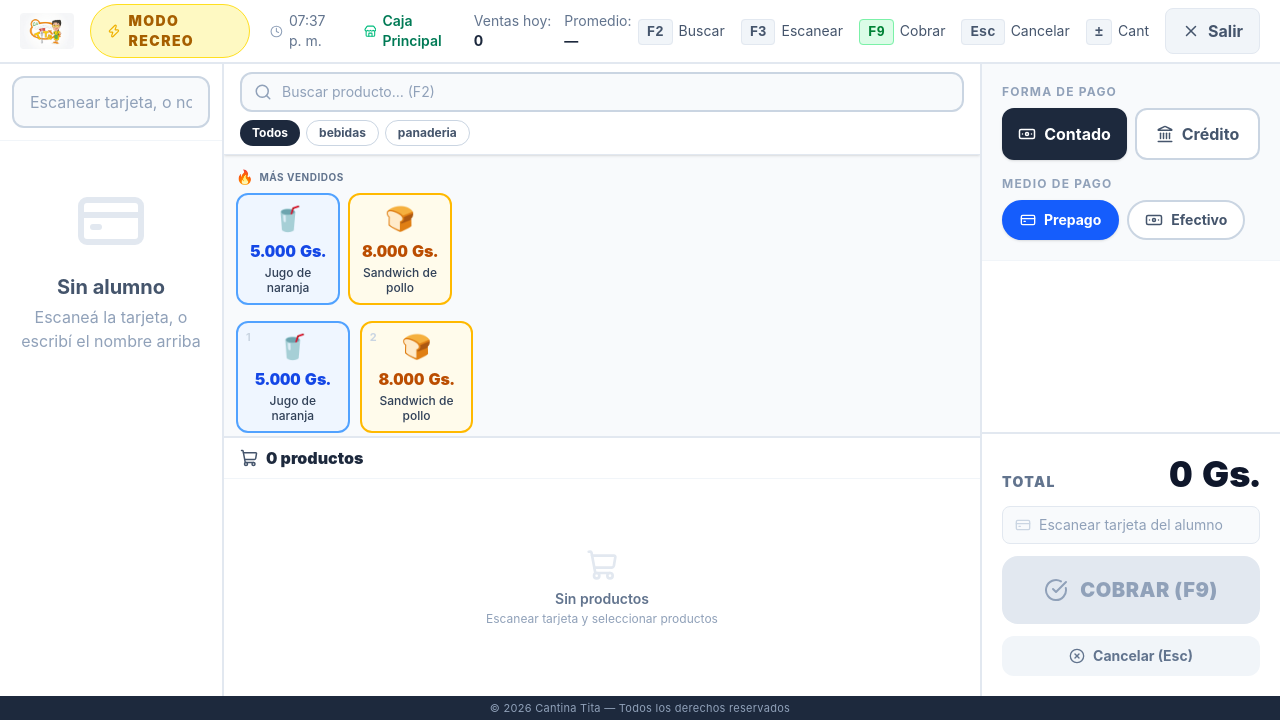
ModoRecreo — agregar productos al carrito › agrega producto al carrito al hacer click en el botón del grid
The width and height of the screenshot is (1280, 720).
Expected: the text "Jugo de naranja" below "Más vendidos" is shown, [265, 265, 311, 295]
Click the button "🥤 5.000 Gs. Jugo de naranja": x=288, y=249 [236, 193, 340, 305]
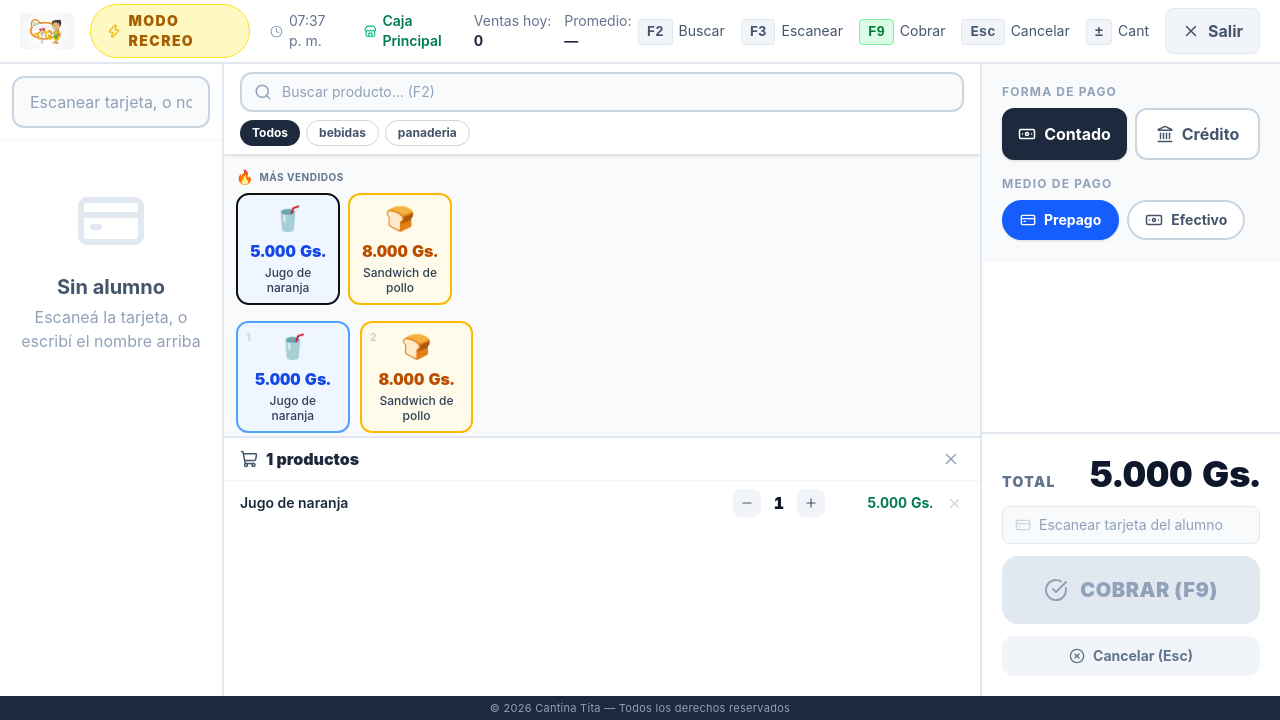
Result: the text "1 productos" is shown at [266, 447, 359, 471]
